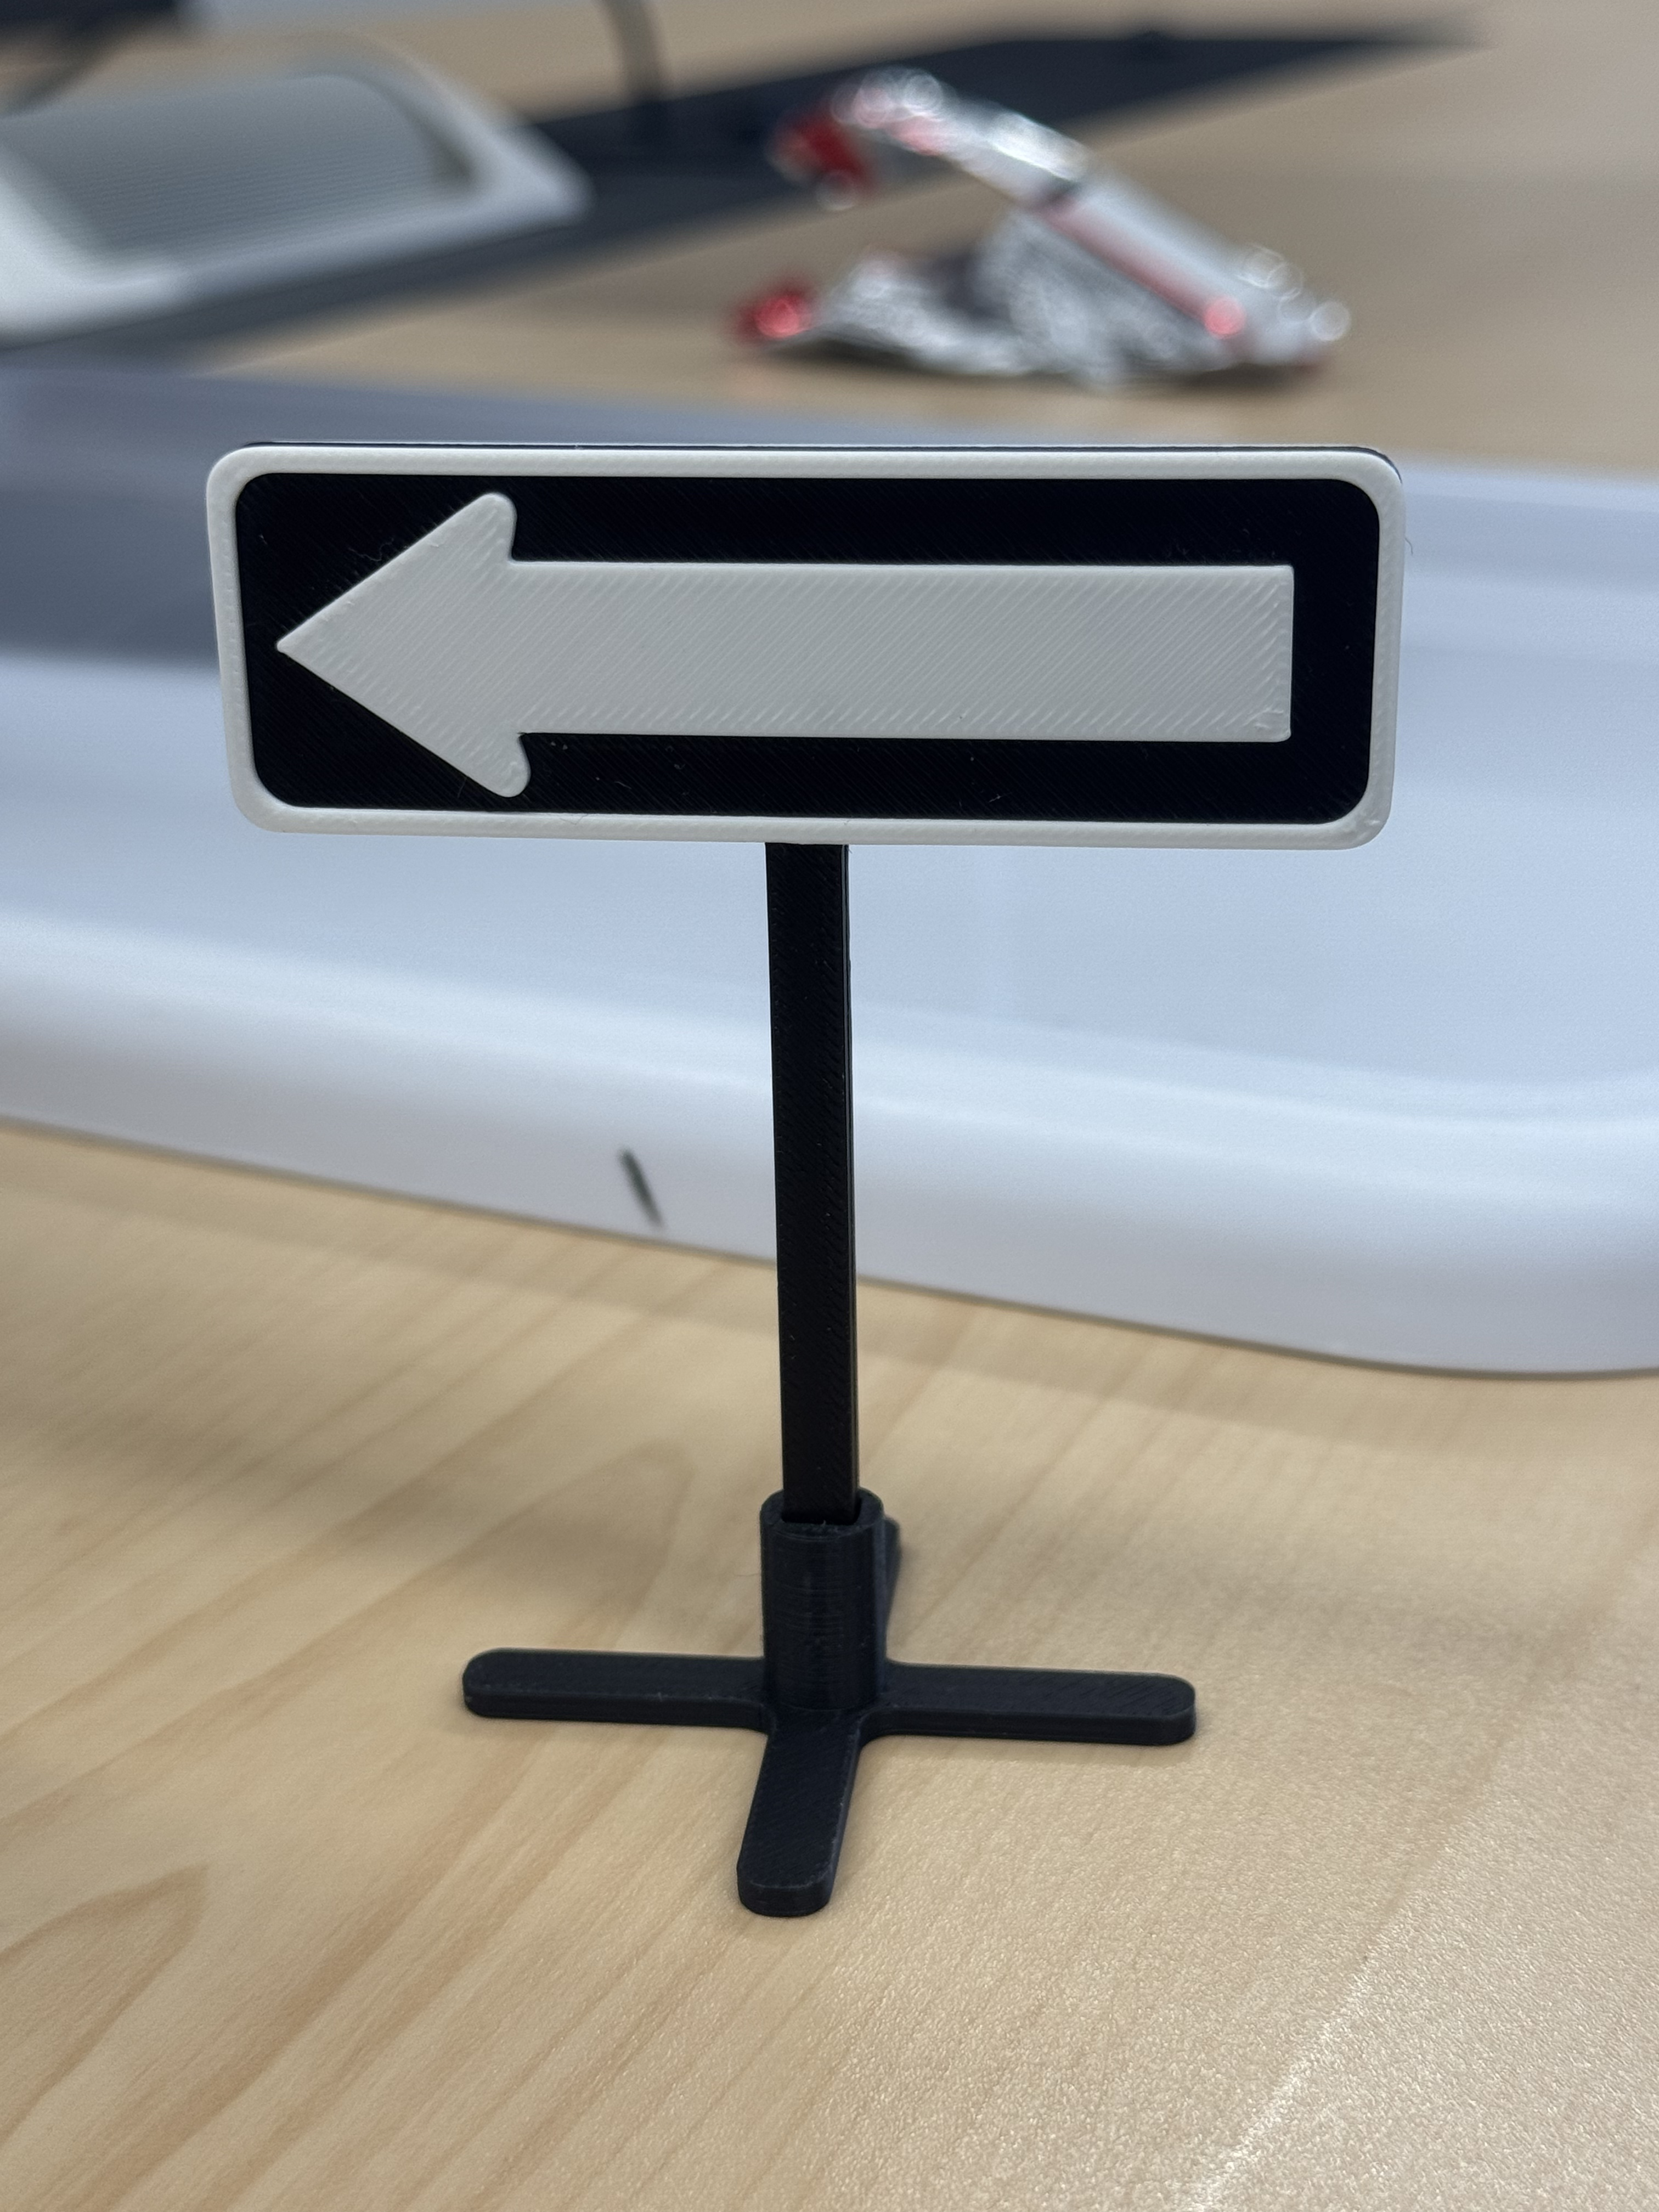sign_oneway_left: (200, 439, 1417, 1925)
